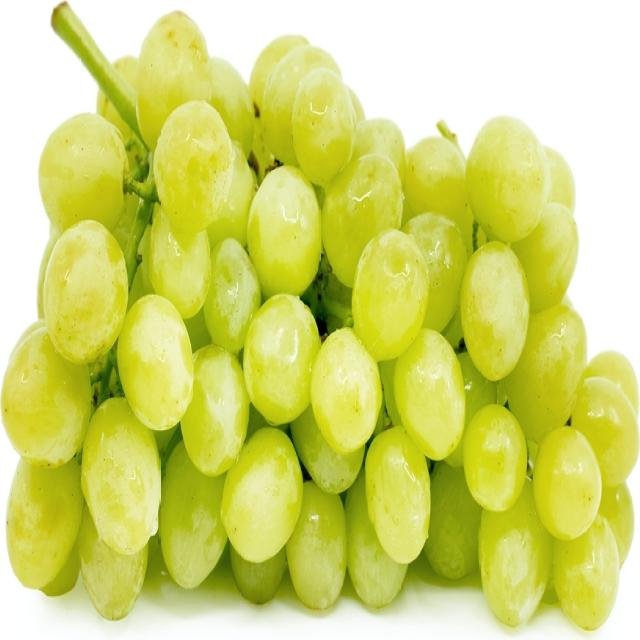grape: (1, 4, 639, 629)
